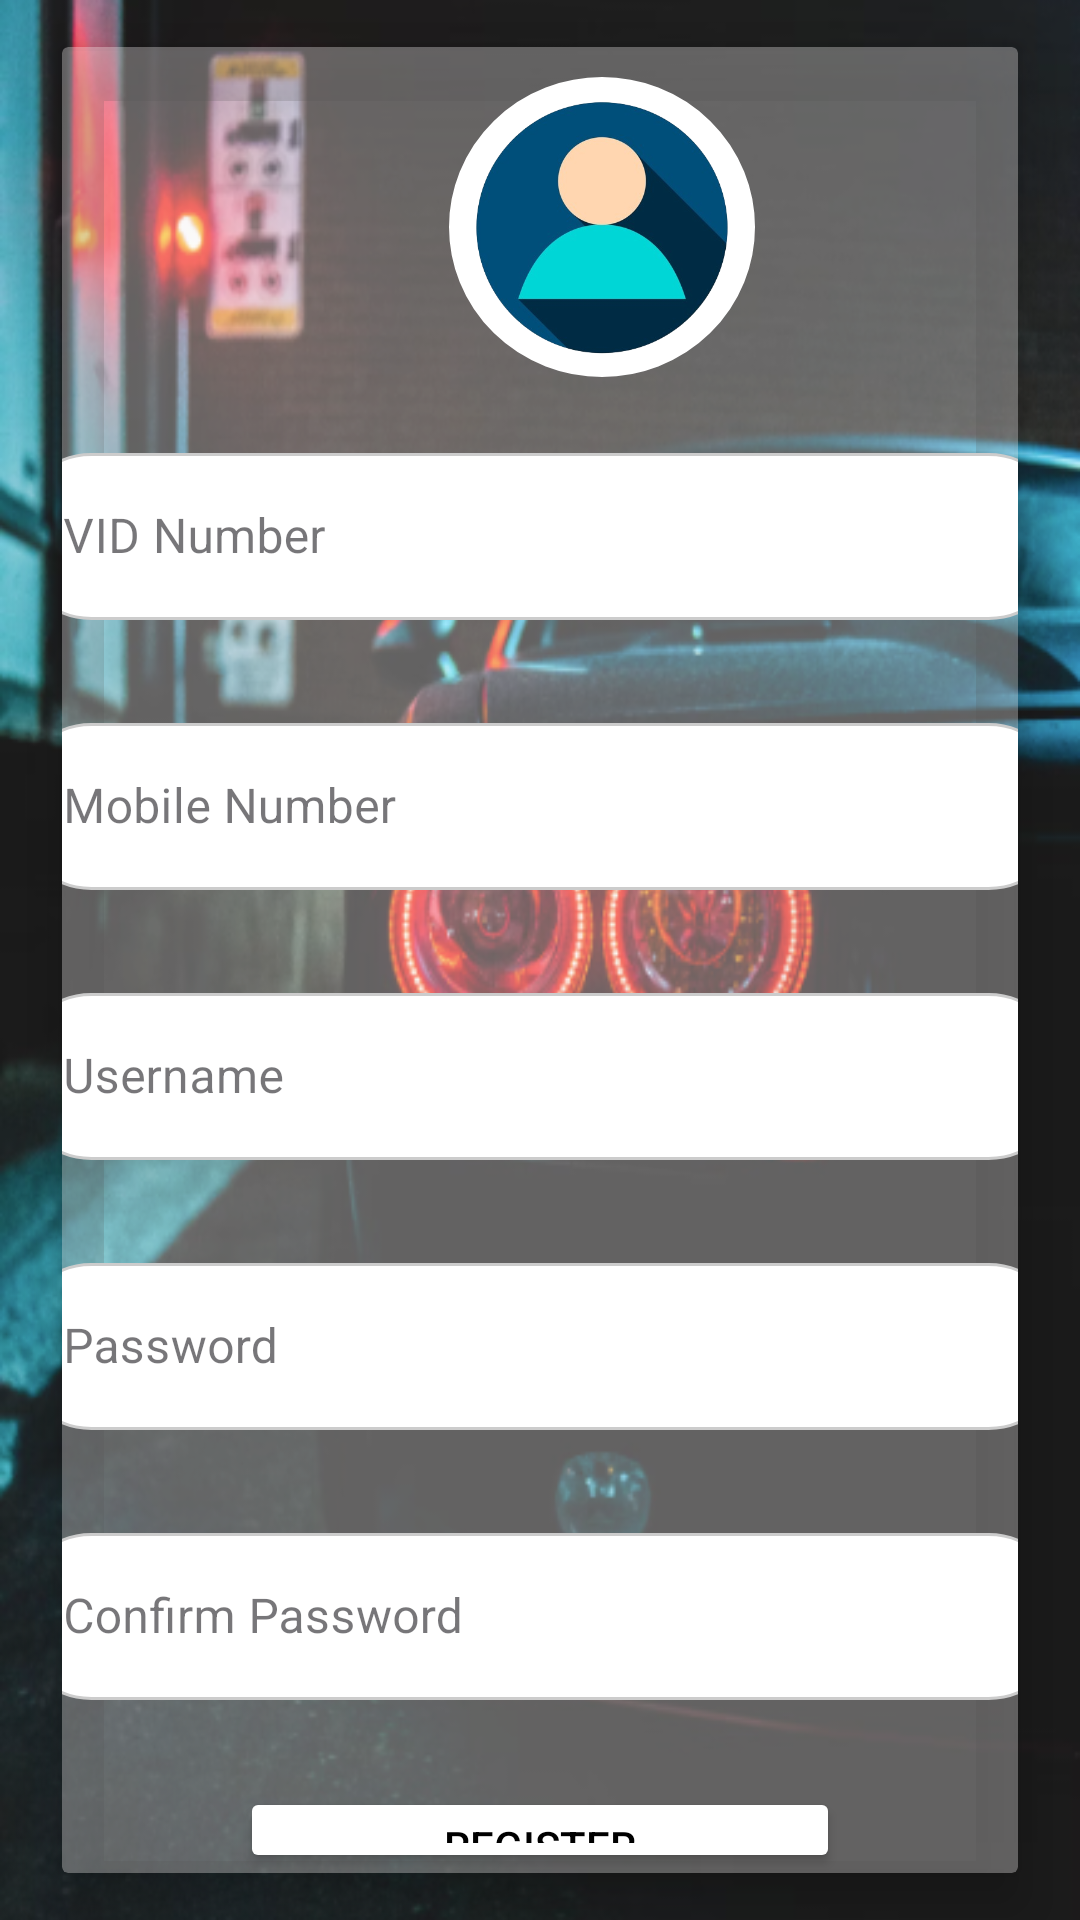

Named icons in this screenshot (1080×1920) and their centers, [x,y]:
user: [602,227]
